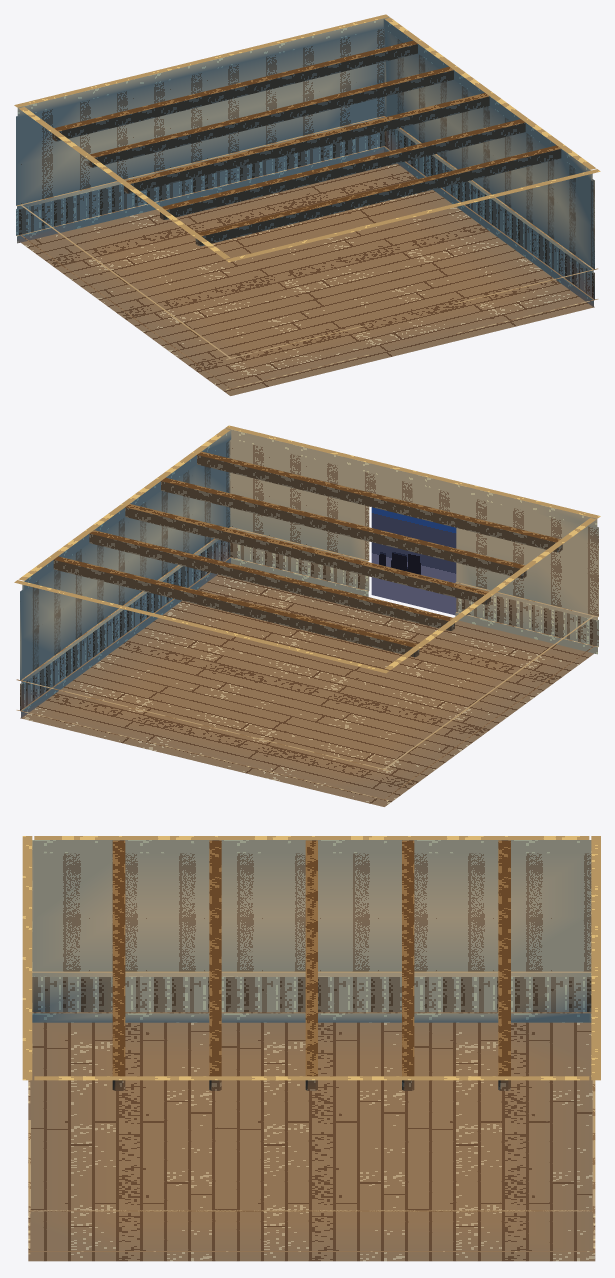
Rendered from wtown.room.glb.
3 renders of one model, top to bottom at view 1: azimuth 30°, elevation 25°; view 2: azimuth 150°, elevation 25°; view 3: azimuth 270°, elevation 25°, orthographic. The views are drawn at different scales.
Parts seen in each view (by area): view 1: kit_shell_floor, kit_shell_walls, kit_beams; view 2: kit_shell_floor, kit_shell_walls, kit_beams, kit_card_door_views; view 3: kit_shell_floor, kit_shell_walls, kit_beams.
Boxes of the visible parts, bbox=[...] form: kit_shell_floor: bbox=[21, 163, 594, 395]; kit_shell_walls: bbox=[14, 14, 600, 389]; kit_beams: bbox=[52, 40, 561, 246]; kit_shell_floor: bbox=[20, 574, 593, 806]; kit_shell_walls: bbox=[14, 425, 600, 800]; kit_beams: bbox=[53, 451, 562, 657]; kit_card_door_views: bbox=[371, 507, 456, 615]; kit_shell_floor: bbox=[28, 1022, 595, 1261]; kit_shell_walls: bbox=[22, 836, 600, 1254]; kit_beams: bbox=[112, 840, 510, 1090].
Size of the model in its own units: 12 by 4.25 by 12.18.
Materials: 7 (7 with a texture image).
